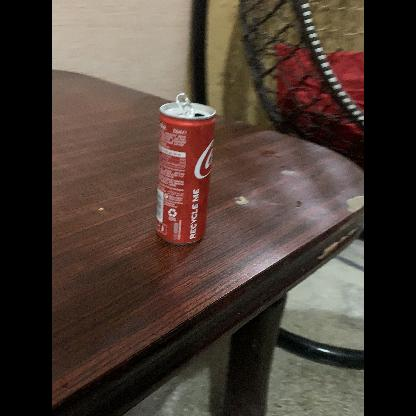Lid_Open: (172, 90, 206, 124)
Tin_Can: (152, 94, 218, 258)
